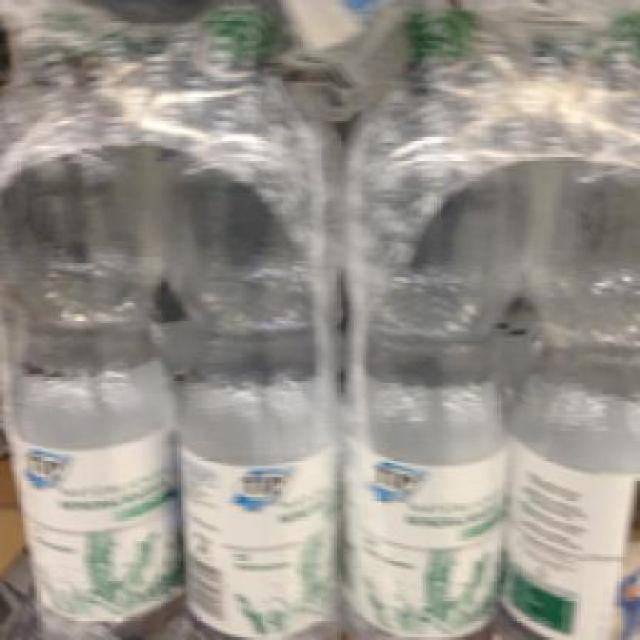Water: (151, 5, 340, 638), (340, 5, 526, 638), (0, 0, 183, 637), (506, 11, 634, 632)
